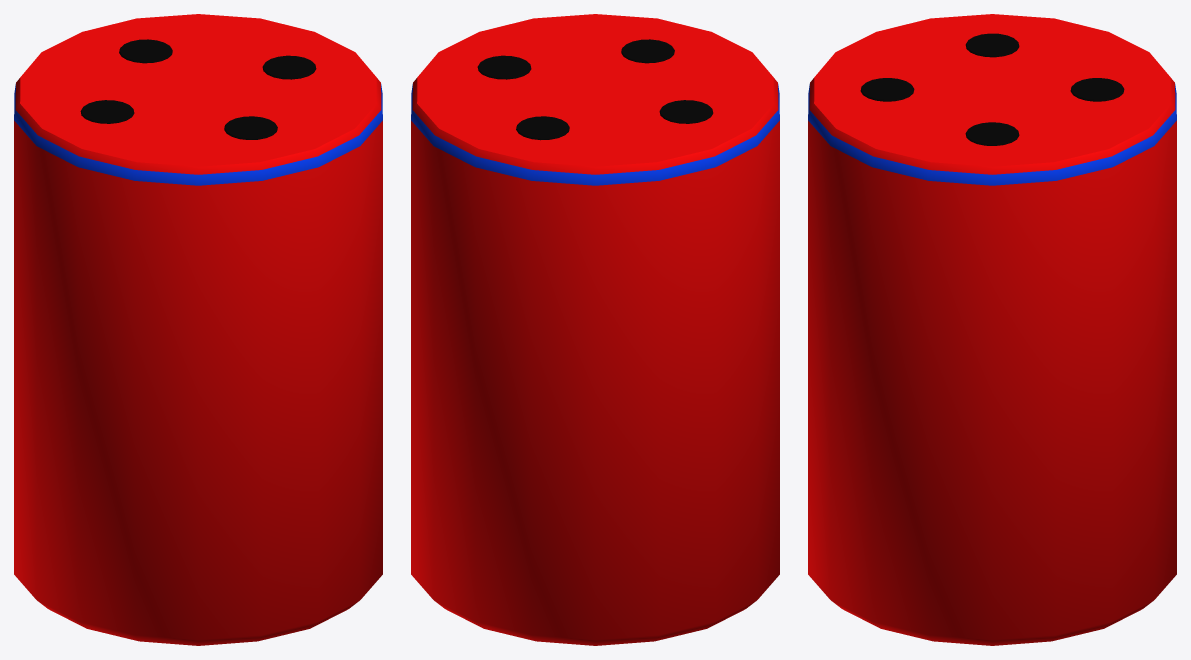
Rendered from Alexa.FBX.
3 renders of one model, left to right at view 1: azimuth 30°, elevation 25°; view 2: azimuth 150°, elevation 25°; view 3: azimuth 270°, elevation 25°, orthographic.
Visible parts, largest first — view 1: Alexa; view 2: Alexa; view 3: Alexa.
Boxes of the visible parts, left/top/right/bottom form: Alexa: left=14, top=14, right=382, bottom=645; Alexa: left=411, top=14, right=779, bottom=645; Alexa: left=808, top=14, right=1176, bottom=645.
Size of the model in its own units: 0.6146 by 0.8764 by 0.6058.
